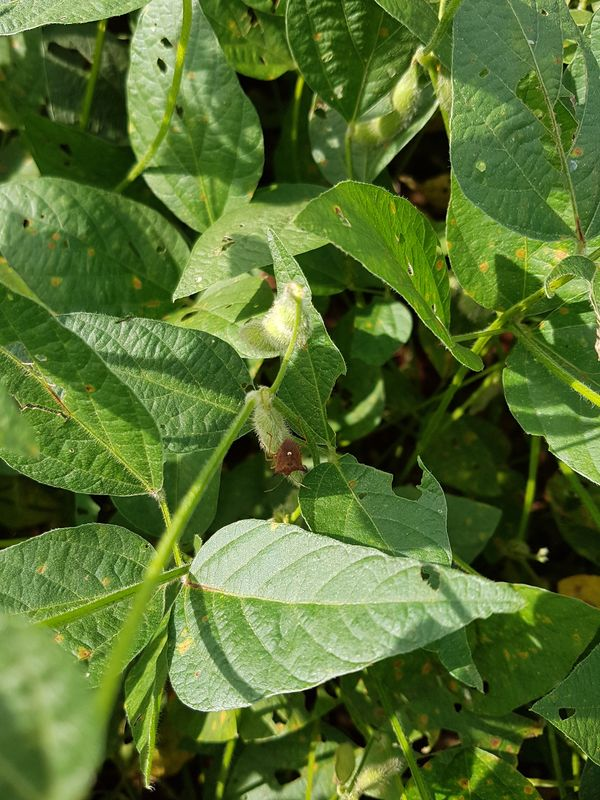Euschistus_heros_adulto: (249, 411, 325, 504)
